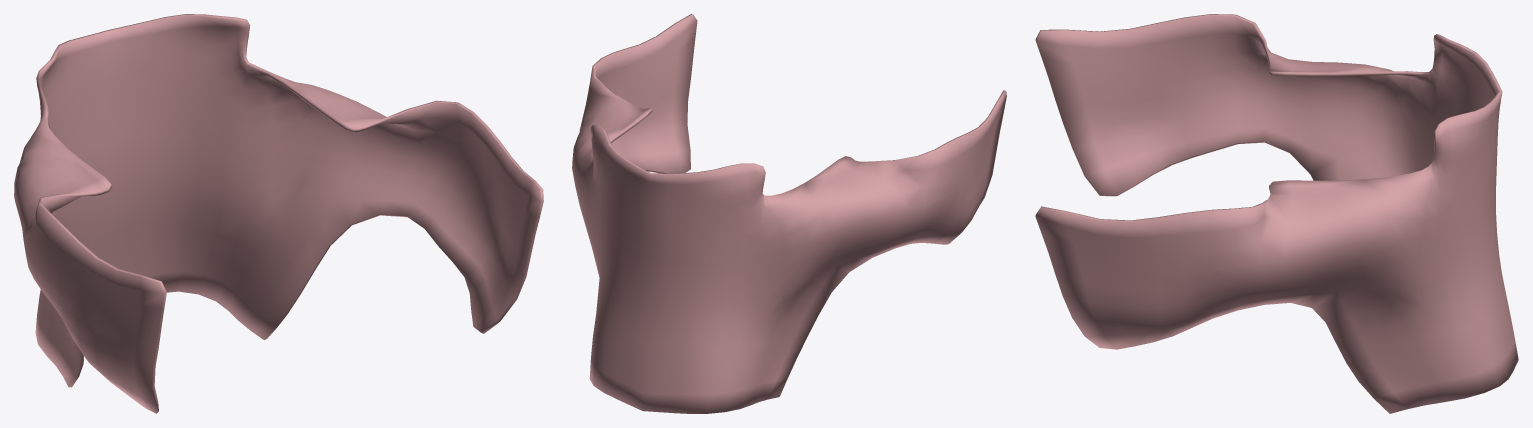
3 views of the same model, side by side, from view 1: azimuth 30°, elevation 25°; view 2: azimuth 150°, elevation 25°; view 3: azimuth 270°, elevation 25° (orthographic). The views are drawn at different scales.
Visible parts, largest first — view 1: ZA_ecc946f3b86ffe6d; view 2: ZA_ecc946f3b86ffe6d; view 3: ZA_ecc946f3b86ffe6d.
Boxes of the visible parts, x1=… form: ZA_ecc946f3b86ffe6d: x1=14, y1=14, x2=543, y2=413; ZA_ecc946f3b86ffe6d: x1=572, y1=14, x2=1006, y2=413; ZA_ecc946f3b86ffe6d: x1=1035, y1=14, x2=1518, y2=413.
Size of the model in its own units: 0.0656 by 0.0442 by 0.0669.
